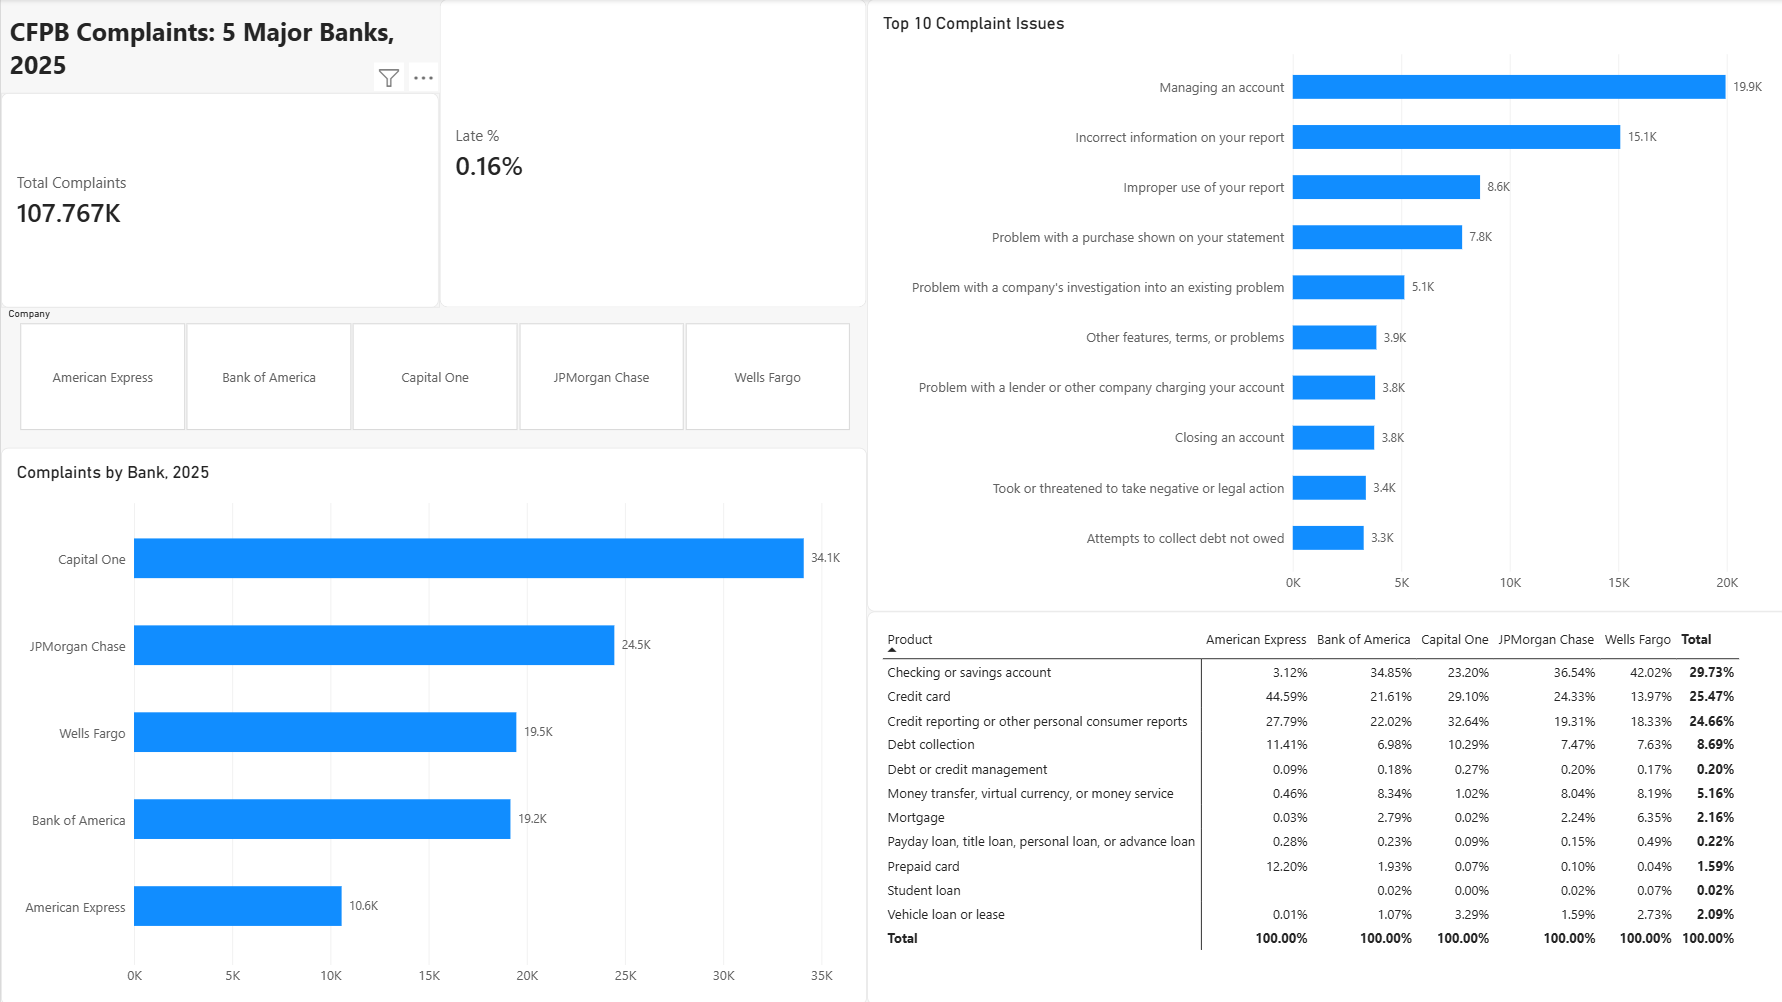

The dashboard page shown, as its layout file describes it:
{"tool":"powerbi","page":{"name":"Page 1","canvas":[1920,1080],"ordinal":0},"visuals":[{"type":"cardVisual","fields":{"Data":["CountNonNull(cfpb_2025_5banks.Complaint ID)"]},"box":[0,100.1,470.7,231.7],"z":0},{"type":"cardVisual","fields":{"Data":["cfpb_2025_5banks.Late %"]},"box":[471,0,458.9,331.5],"z":1000},{"type":"clusteredBarChart","title":"Complaints by Bank, 2025","fields":{"Category":["cfpb_2025_5banks.Company"],"Y":["CountNonNull(cfpb_2025_5banks.Complaint ID)"]},"box":[0,481.8,930,598.5],"z":2000},{"type":"clusteredBarChart","title":"Top 10 Complaint Issues","fields":{"Category":["cfpb_2025_5banks.Issue"],"Y":["CountNonNull(cfpb_2025_5banks.Complaint ID)"]},"box":[930.3,0,989.7,657.9],"z":3000},{"type":"pivotTable","fields":{"Columns":["cfpb_2025_5banks.Company"],"Rows":["cfpb_2025_5banks.Product"],"Values":["CountNonNull(cfpb_2025_5banks.Complaint ID)"]},"box":[930.3,657.9,989.7,422.5],"z":4000},{"type":"slicer","fields":{"Values":["cfpb_2025_5banks.Company"]},"box":[0,331.7,930.3,133.4],"z":5000},{"type":"textbox","box":[9.3,16.7,461.5,96.4],"z":6000}]}

Visuals, with their boxes in screenshot pixels (x1, y1, x2, y2), scaled from the page's 1920x1080 canvas onto the 1782x1002 screenshot:
cardVisual - CountNonNull(cfpb_2025_5banks.Complaint ID): BBox(0, 93, 437, 308)
cardVisual - cfpb_2025_5banks.Late %: BBox(437, 0, 863, 308)
"Complaints by Bank, 2025" clusteredBarChart: BBox(0, 447, 863, 1001)
"Top 10 Complaint Issues" clusteredBarChart: BBox(863, 0, 1781, 610)
pivotTable - cfpb_2025_5banks.Company x cfpb_2025_5banks.Product: BBox(863, 610, 1781, 1001)
slicer - cfpb_2025_5banks.Company: BBox(0, 308, 863, 432)
textbox: BBox(9, 15, 437, 105)
